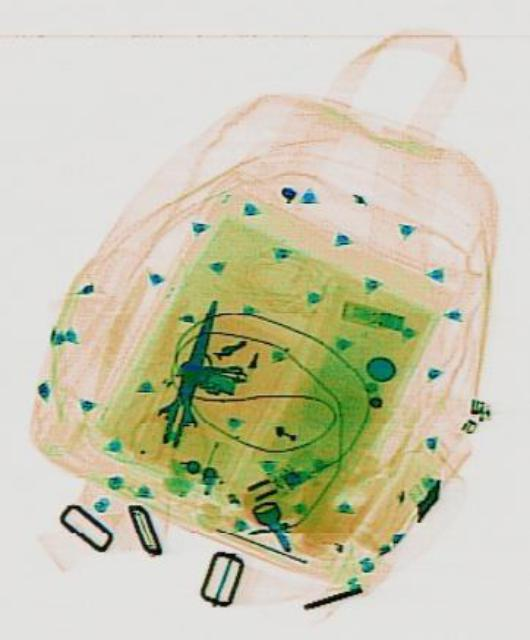Knife: (146, 291, 230, 451)
